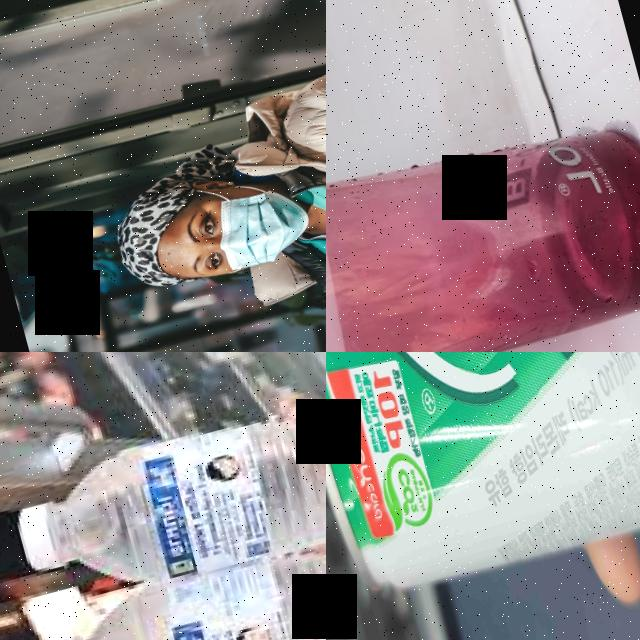bottle: (1, 352, 326, 632), (326, 86, 640, 352), (27, 474, 326, 640)
can: (326, 352, 640, 614)
